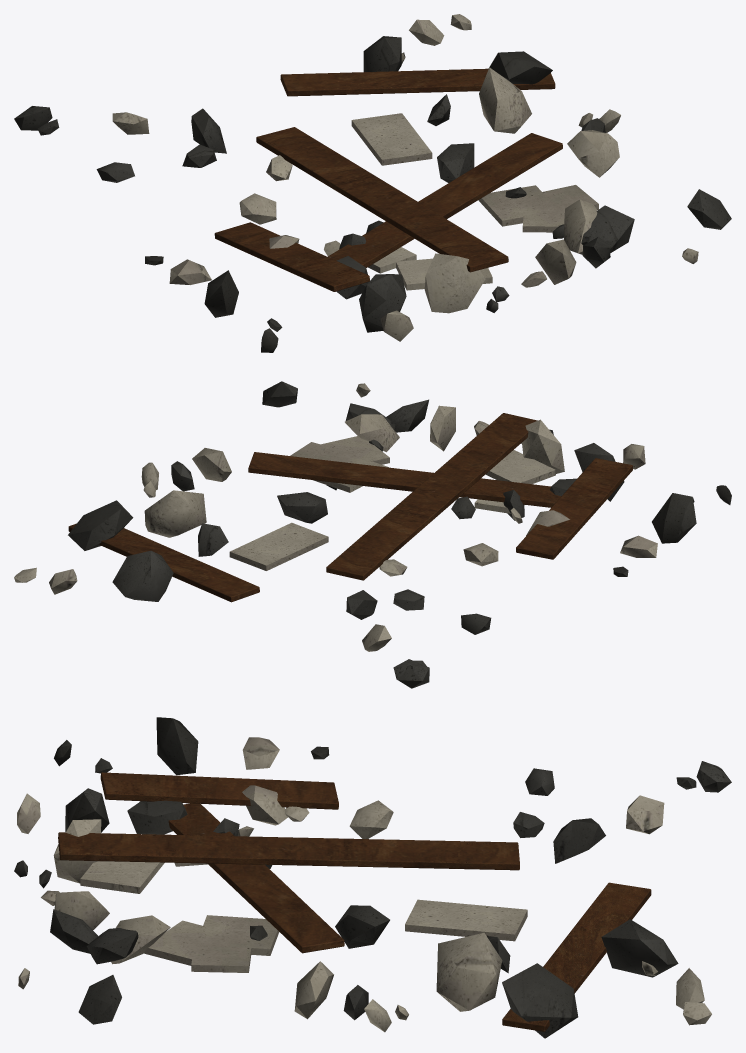
The model's file is Debris_Scatter.gltf.
3 renders of one model, top to bottom at view 1: azimuth 30°, elevation 25°; view 2: azimuth 150°, elevation 25°; view 3: azimuth 270°, elevation 25°, orthographic. The views are drawn at different scales.
Visible parts, largest first — view 1: Debris_Scatter_Stone, Debris_Scatter_Wood; view 2: Debris_Scatter_Stone, Debris_Scatter_Wood; view 3: Debris_Scatter_Stone, Debris_Scatter_Wood.
Part boxes in pixels (x1,y1,x2,y2): Debris_Scatter_Stone: [14, 14, 731, 352]; Debris_Scatter_Wood: [214, 68, 562, 291]; Debris_Scatter_Stone: [14, 381, 731, 688]; Debris_Scatter_Wood: [68, 413, 632, 602]; Debris_Scatter_Stone: [14, 717, 731, 1038]; Debris_Scatter_Wood: [58, 772, 651, 1031].
Bounding box in the file's own units: 1.78 × 0.2242 × 1.91.
Materials: 3 (3 with a texture image).
